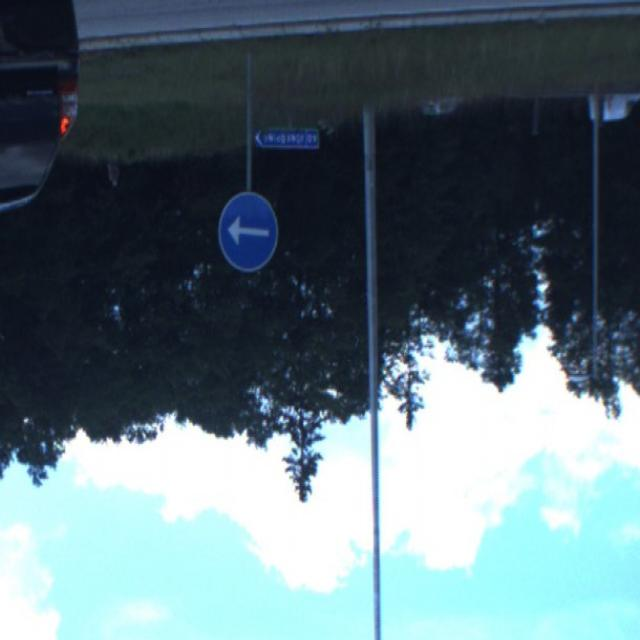Turn Left: (216, 190, 277, 270)
